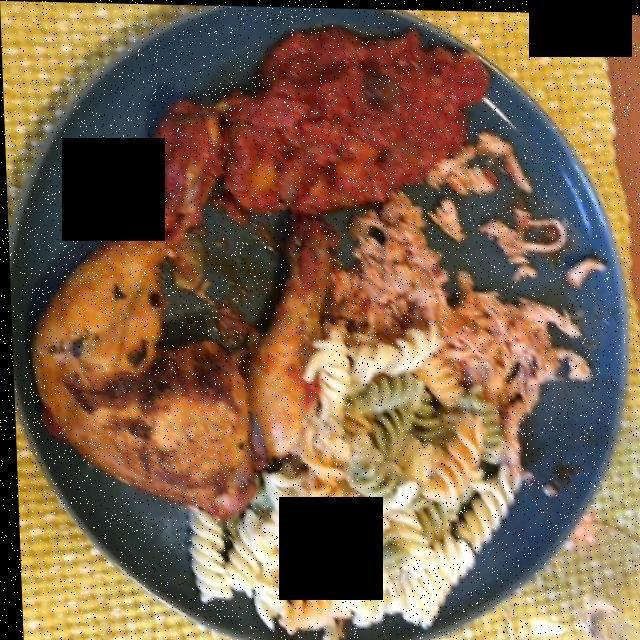chicken: (48, 108, 548, 484)
pasta: (175, 322, 535, 630)
tomato-sauce: (211, 21, 471, 223)
